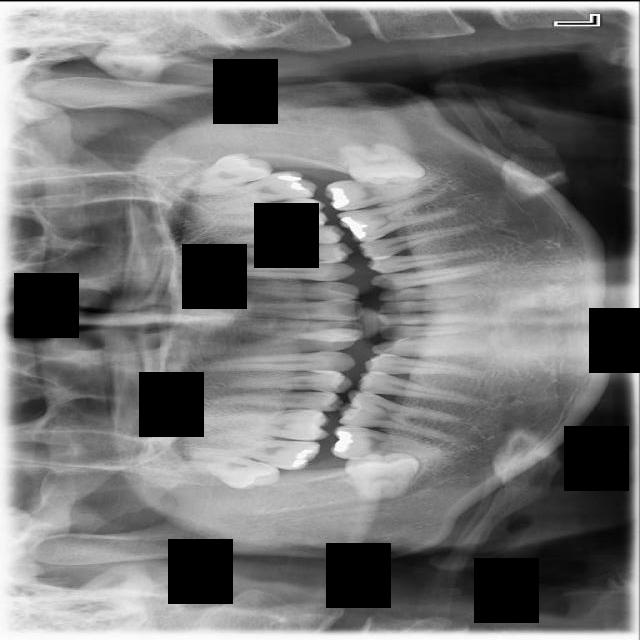3M ESPE Implant: (168, 445, 283, 494)
52: (261, 158, 319, 211), (253, 438, 322, 472), (330, 422, 379, 463), (337, 210, 387, 242), (324, 178, 364, 211)
73: (553, 38, 568, 44)
BioHorizons Implant: (165, 164, 321, 219)
BioLife Implant: (172, 145, 277, 194)
Biomet 3i Implant: (339, 138, 427, 188)
Blue Sky Bio Implant: (322, 170, 445, 211)
Caries: (190, 428, 323, 473)
Implant: (330, 423, 448, 463)
Keystone Dental Implant: (343, 450, 421, 499)
